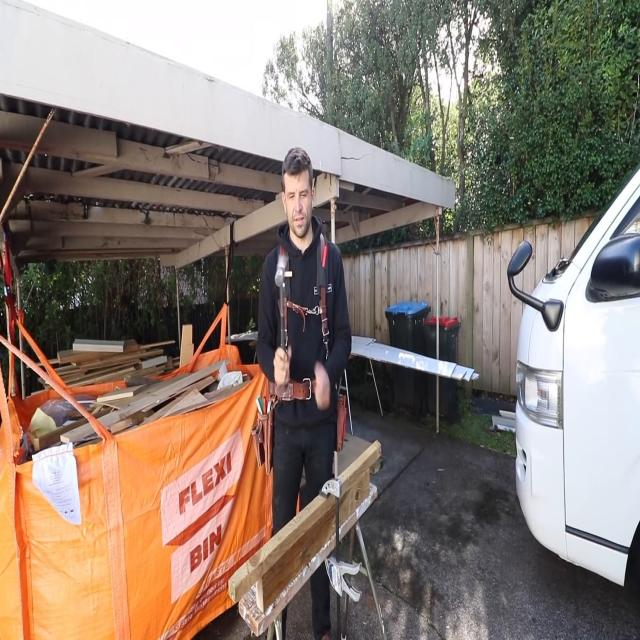hammer: (275, 255, 290, 348)
